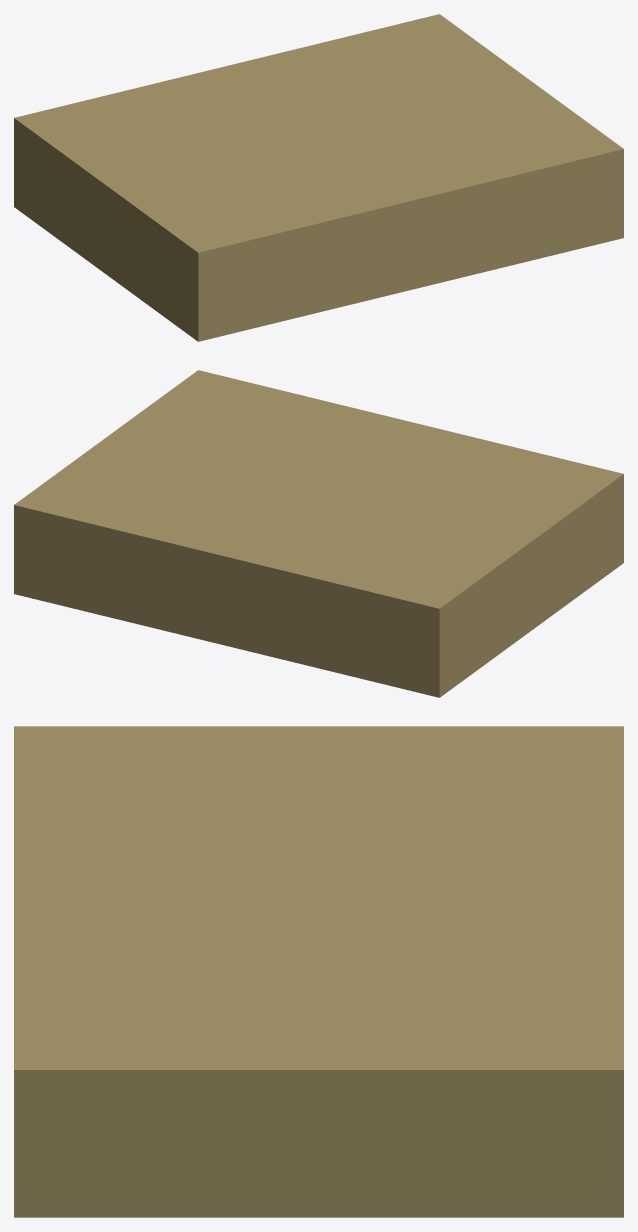
File: BEDROCK_003.glb
3 renders of one model, top to bottom at view 1: azimuth 30°, elevation 25°; view 2: azimuth 150°, elevation 25°; view 3: azimuth 270°, elevation 25°, orthographic. The views are drawn at different scales.
Visible parts, largest first — view 1: Weathered limestone surface; view 2: Weathered limestone surface; view 3: Weathered limestone surface.
Boxes of the visible parts, <box> form: Weathered limestone surface: <box>14,14,623,341</box>; Weathered limestone surface: <box>14,370,623,697</box>; Weathered limestone surface: <box>14,726,623,1217</box>.
Size of the model in its own units: 2 by 0.4 by 1.5.
